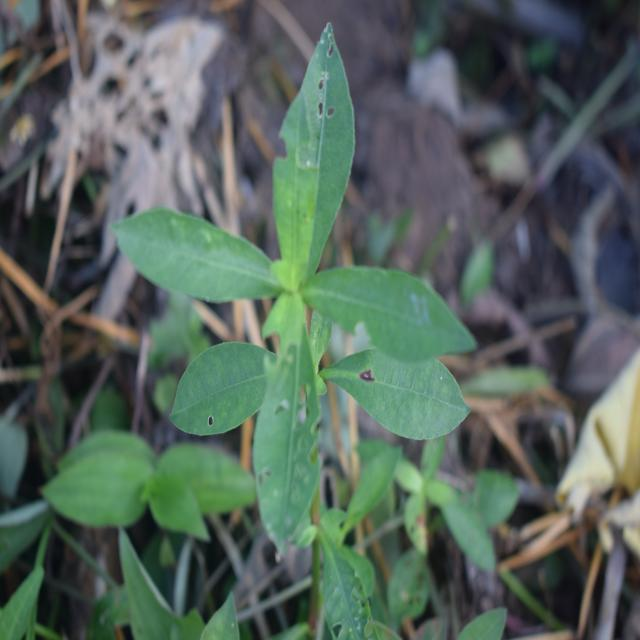Alligatorweed: (129, 52, 459, 539)
